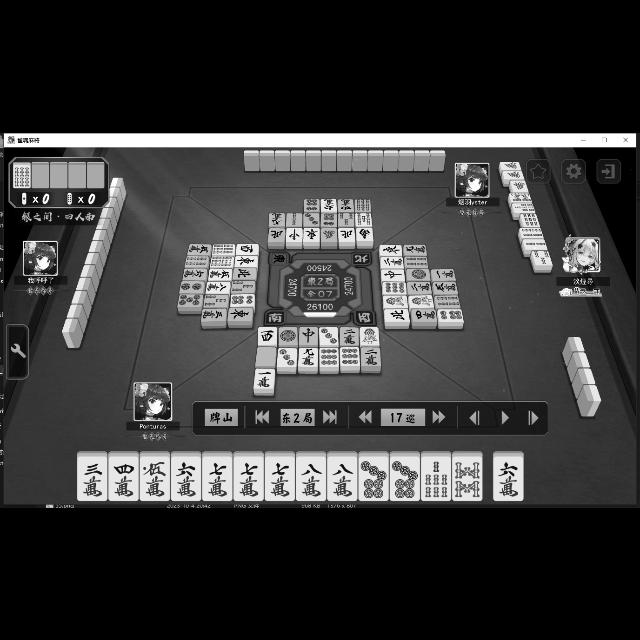1m: (253, 368, 273, 388), (432, 268, 456, 280)
1p: (279, 327, 297, 345), (406, 268, 430, 280)
1s: (360, 326, 380, 346), (384, 294, 408, 306), (410, 295, 434, 307)
2m: (361, 346, 381, 366), (407, 280, 433, 294), (340, 327, 360, 345), (380, 256, 404, 268)
2p: (178, 280, 204, 292)
2s: (522, 238, 548, 248), (286, 212, 302, 226)
3m: (76, 456, 108, 500), (201, 308, 227, 320)
3p: (319, 326, 339, 346), (277, 346, 297, 366), (304, 212, 320, 226)
3s: (231, 278, 255, 294), (203, 293, 229, 307), (532, 249, 554, 265), (338, 210, 354, 226)
4m: (108, 456, 138, 499), (412, 308, 436, 320), (338, 198, 354, 212)
4s: (434, 295, 461, 307), (184, 255, 208, 268), (404, 255, 428, 268), (520, 228, 544, 238)
5m: (139, 456, 169, 500), (432, 280, 458, 294), (187, 242, 211, 255), (208, 268, 232, 280)
5p: (178, 294, 202, 306)
5s: (356, 212, 372, 226)
6m: (171, 456, 201, 500), (494, 456, 524, 500), (182, 268, 208, 280), (322, 198, 336, 212)
6p: (438, 308, 464, 322), (230, 294, 254, 306), (320, 212, 336, 228), (304, 198, 320, 210)
6s: (13, 164, 31, 188), (210, 255, 234, 268), (212, 242, 234, 254), (355, 198, 371, 212)
7m: (202, 456, 232, 500), (234, 456, 264, 500), (265, 456, 295, 500)
7p: (390, 456, 420, 500), (359, 456, 388, 499)
7s: (422, 456, 452, 500), (512, 202, 536, 210)
8m: (328, 456, 357, 502), (296, 456, 326, 500), (204, 280, 230, 294)
8s: (452, 456, 482, 500), (510, 192, 532, 200)
9m: (298, 346, 318, 366), (403, 243, 427, 255), (269, 212, 285, 225)
9p: (319, 347, 339, 365), (383, 280, 407, 294), (340, 348, 360, 364)
9s: (522, 212, 540, 226)
chun: (300, 327, 318, 345), (381, 269, 405, 281), (286, 227, 302, 241)
haku: (256, 346, 276, 366)
hatsu: (511, 178, 529, 192), (500, 160, 522, 170), (320, 228, 338, 240), (503, 171, 525, 179)
nan: (356, 227, 374, 240)
pe: (384, 307, 410, 321), (267, 226, 285, 242), (234, 267, 256, 279), (338, 228, 356, 240)
sha: (258, 326, 276, 344), (236, 242, 258, 254)
tou: (228, 306, 252, 320), (234, 255, 256, 267), (380, 244, 402, 256), (304, 226, 320, 240)
